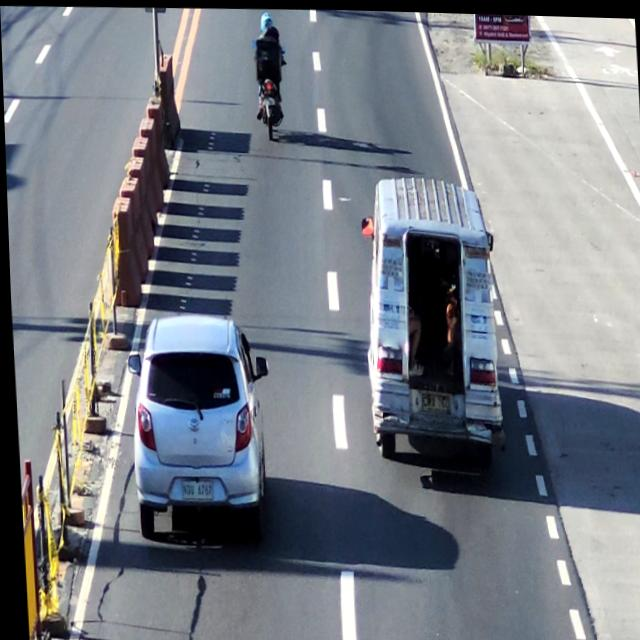Car: (126, 314, 272, 539)
Jeep: (359, 173, 501, 463)
License-Plate: (175, 477, 216, 505), (415, 390, 450, 419)
Motorcycle: (249, 13, 292, 141)
